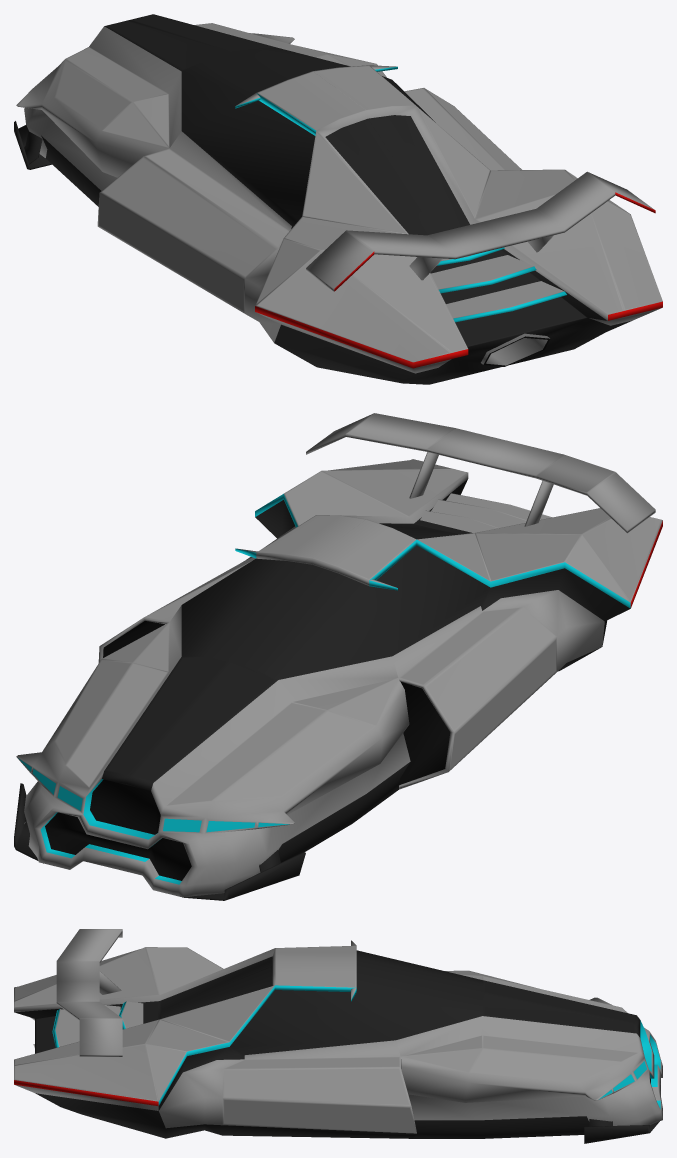
File: car09v2Material.fbx
The picture shows the model from 3 angles, top to bottom: view 1: azimuth 30°, elevation 25°; view 2: azimuth 150°, elevation 25°; view 3: azimuth 270°, elevation 25°; orthographic projection. The views are drawn at different scales.
Parts seen in each view (by area): view 1: Plane.001; view 2: Plane.001; view 3: Plane.001.
Part boxes in pixels (x1=…): Plane.001: x1=14, y1=14, x2=662, y2=384; Plane.001: x1=14, y1=413, x2=662, y2=900; Plane.001: x1=14, y1=929, x2=662, y2=1143.
Bounding box in the file's own units: 3.9 × 7.67 × 1.74.
